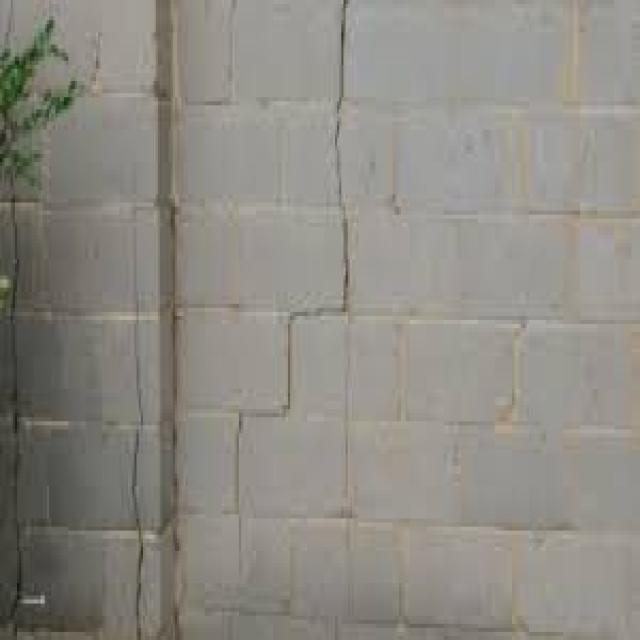Crack: (177, 0, 347, 518), (128, 162, 145, 636), (4, 174, 19, 620)
